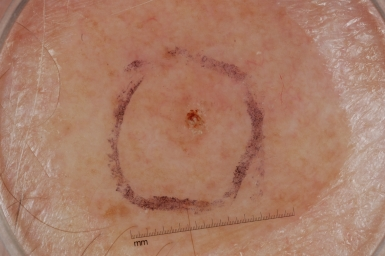seborrheic keratosis: (99, 43, 268, 216)
